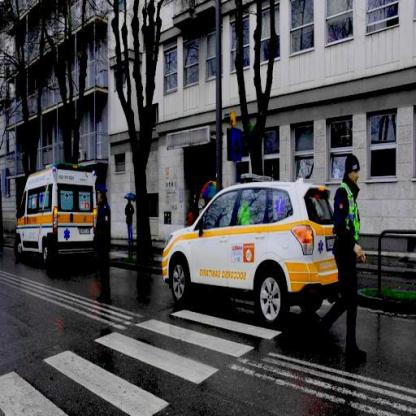crosswalk: (88, 317, 281, 387)
